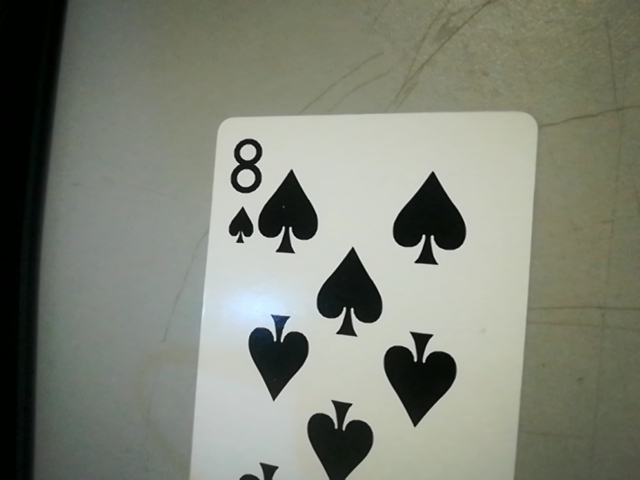ht 8: (214, 127, 270, 249)
